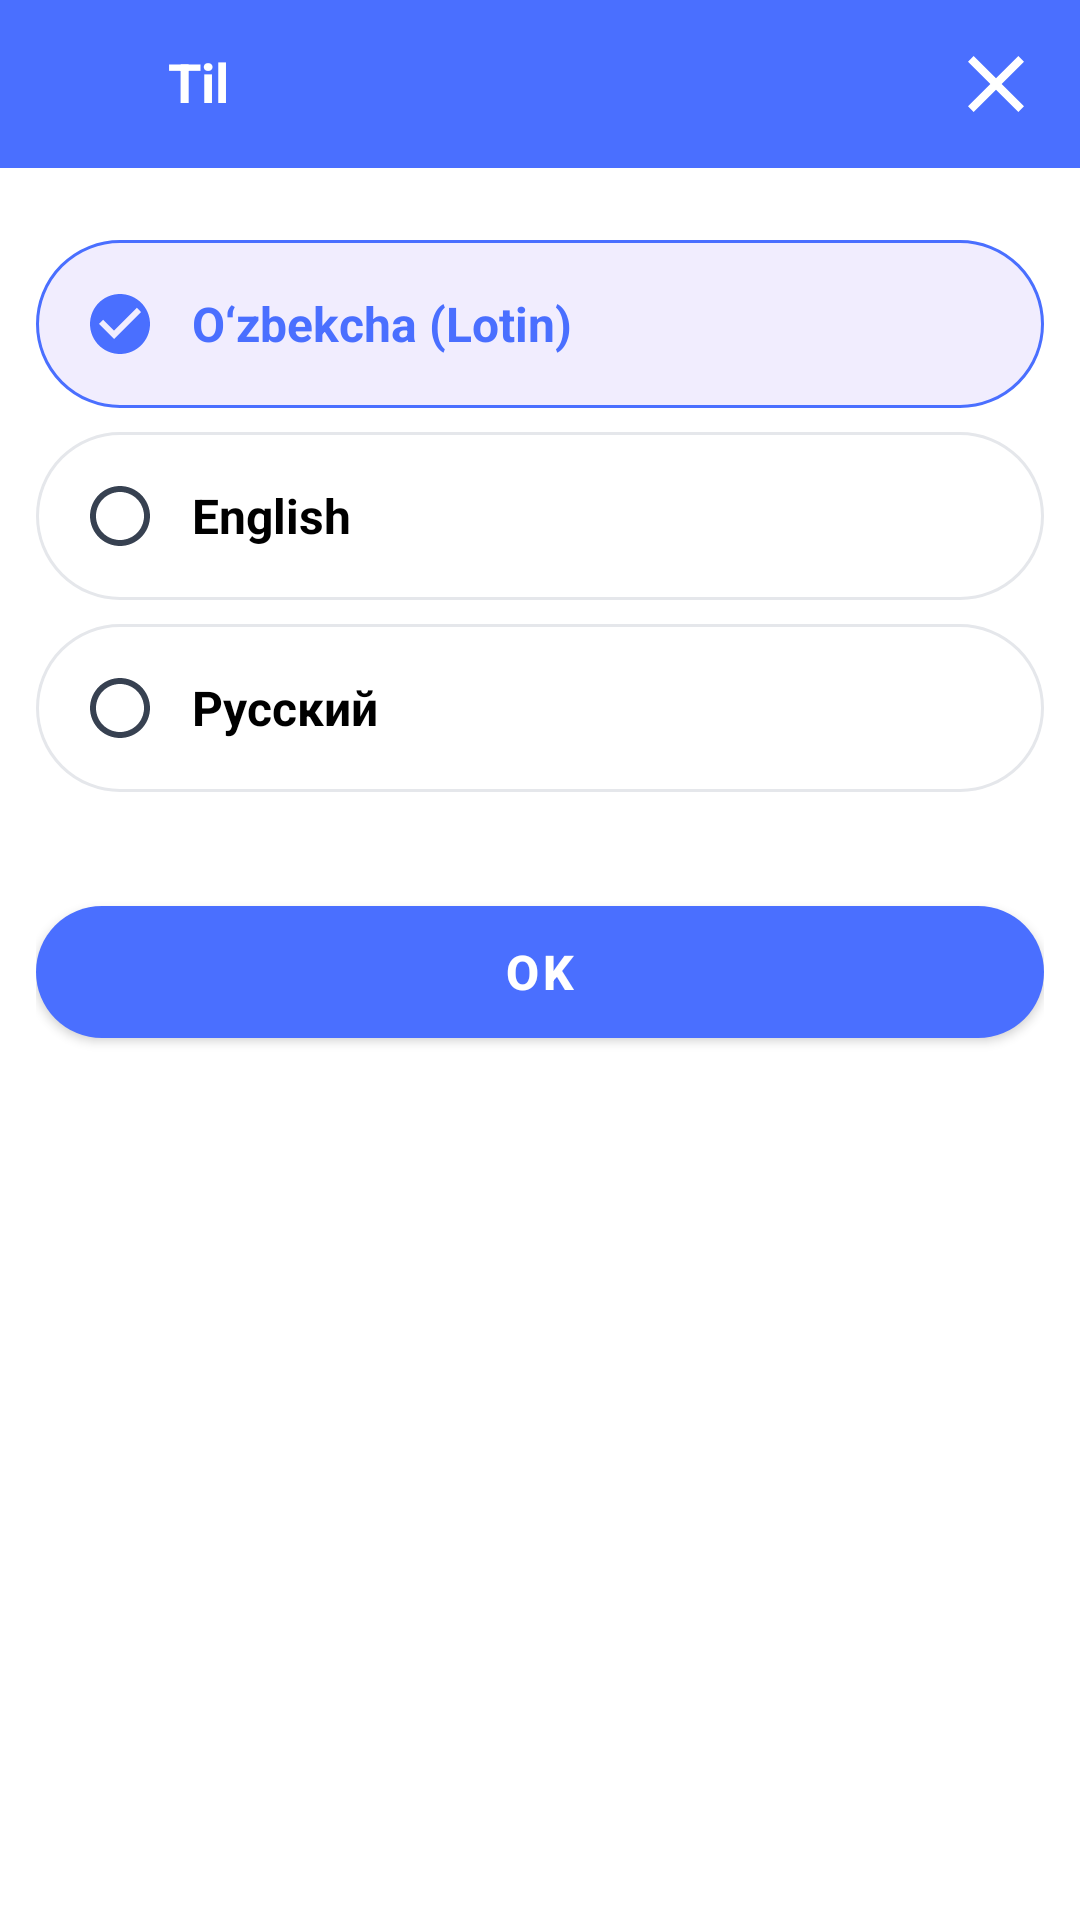

Icon click points for this 1080 x 1920 phone screenshot, format [x,y]:
close: [996,84]
